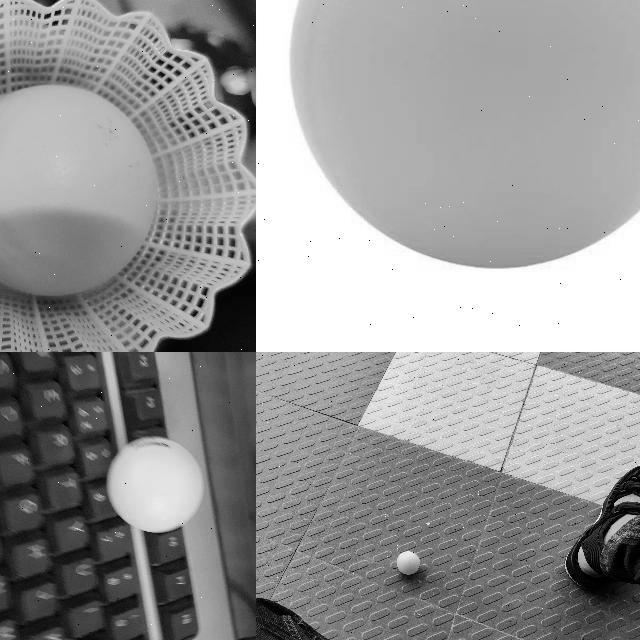ping-pong-ball: (289, 0, 639, 266), (0, 83, 157, 292), (108, 437, 202, 537), (398, 550, 418, 578)
